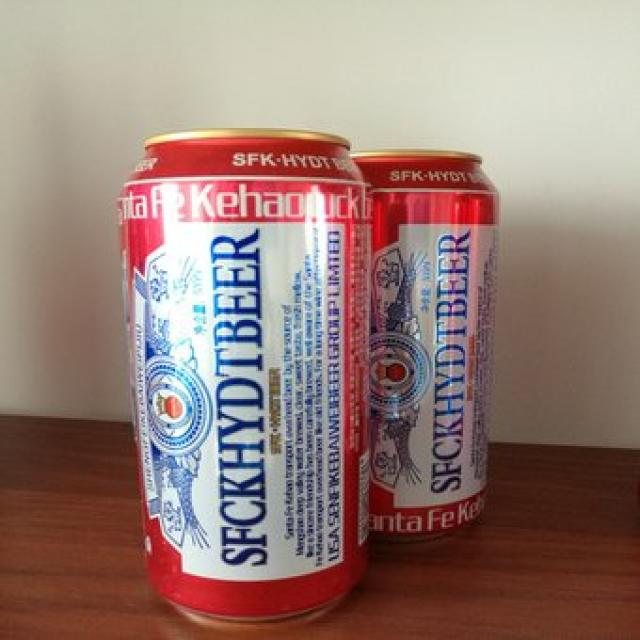-Recyclables - can-: (122, 130, 372, 617), (370, 148, 493, 536)
